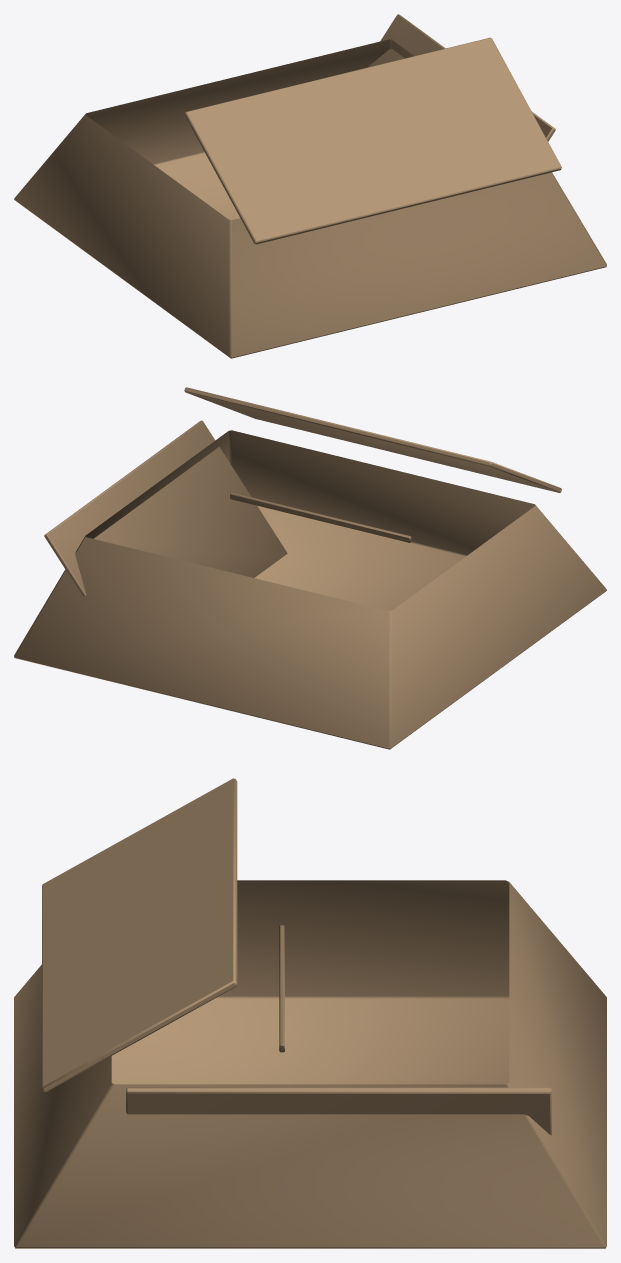
File: cardboard_box_crushed.glb
3 views of the same model, one above another, from view 1: azimuth 30°, elevation 25°; view 2: azimuth 150°, elevation 25°; view 3: azimuth 270°, elevation 25° (orthographic). The views are drawn at different scales.
Parts seen in each view (by area): view 1: cardboard_box_crushed; view 2: cardboard_box_crushed; view 3: cardboard_box_crushed.
Boxes of the visible parts, x1,y1,x2,y2 form: cardboard_box_crushed: (14,14,606,358); cardboard_box_crushed: (14,387,606,749); cardboard_box_crushed: (14,778,606,1248).
Bounding box in the file's own units: 0.4186 × 0.1982 × 0.4179.
